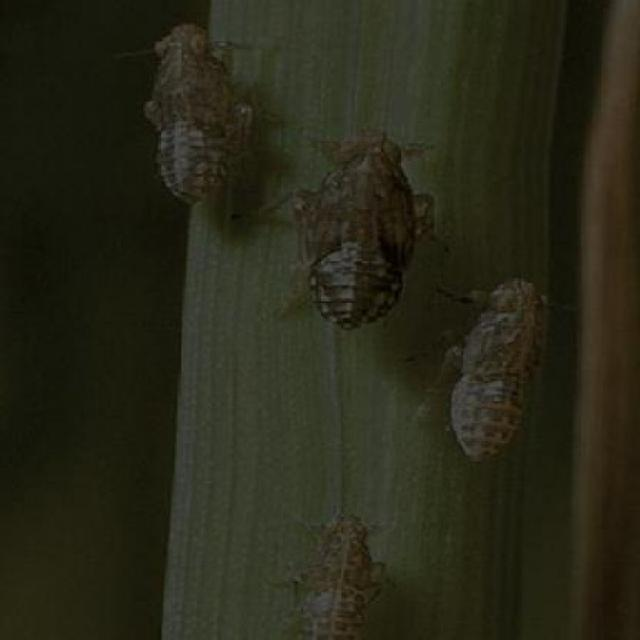brown-planthopper: (300, 128, 418, 329), (443, 278, 552, 470), (143, 22, 240, 200), (278, 509, 394, 640)
